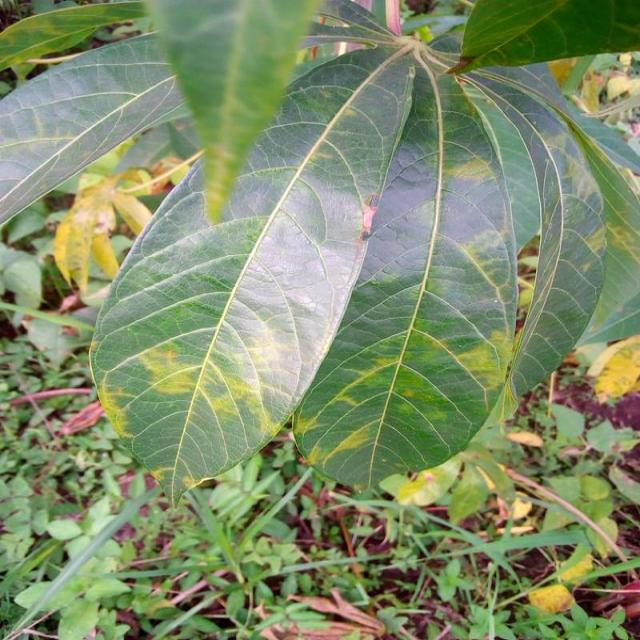cassava leaf: (87, 39, 417, 507), (290, 48, 522, 493)
